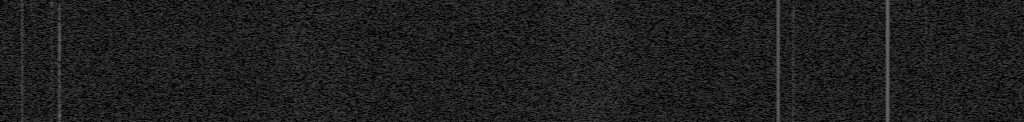wv_am: (885, 0, 891, 122)
wv_cw: (775, 0, 781, 122), (20, 0, 25, 122), (791, 0, 795, 122)
wv_lsb: (56, 3, 62, 122), (48, 1, 55, 39), (49, 53, 54, 85), (47, 107, 54, 122), (50, 86, 54, 106), (49, 40, 54, 52)
wv_usb: (923, 16, 929, 122), (923, 2, 929, 15)
wv_wbfm: (522, 0, 655, 122), (246, 0, 355, 122), (348, 84, 356, 89), (349, 31, 358, 35), (354, 24, 361, 28), (355, 1, 362, 5), (353, 17, 361, 20), (350, 48, 358, 51), (350, 99, 357, 102), (351, 54, 356, 57)
